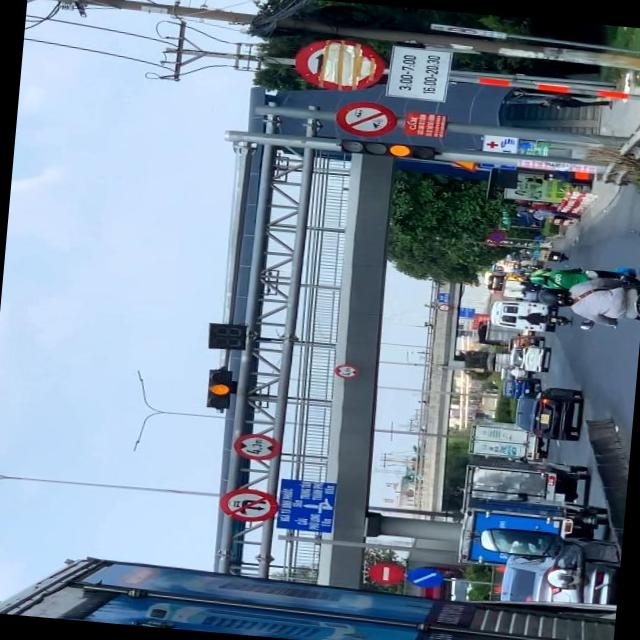P-102: (368, 560, 404, 585)
P-117: (233, 431, 280, 461)
R-302a: (405, 564, 442, 587)
